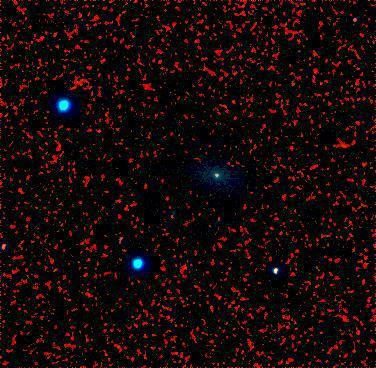star: (233, 239, 263, 269)
